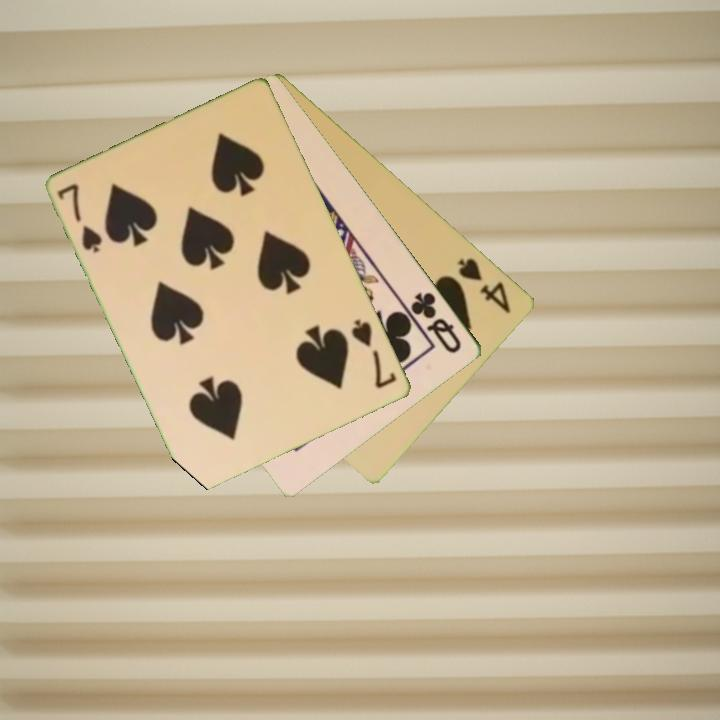4s: (454, 254, 514, 317)
7s: (54, 180, 106, 257), (348, 316, 400, 392)
Qc: (407, 288, 465, 357)
